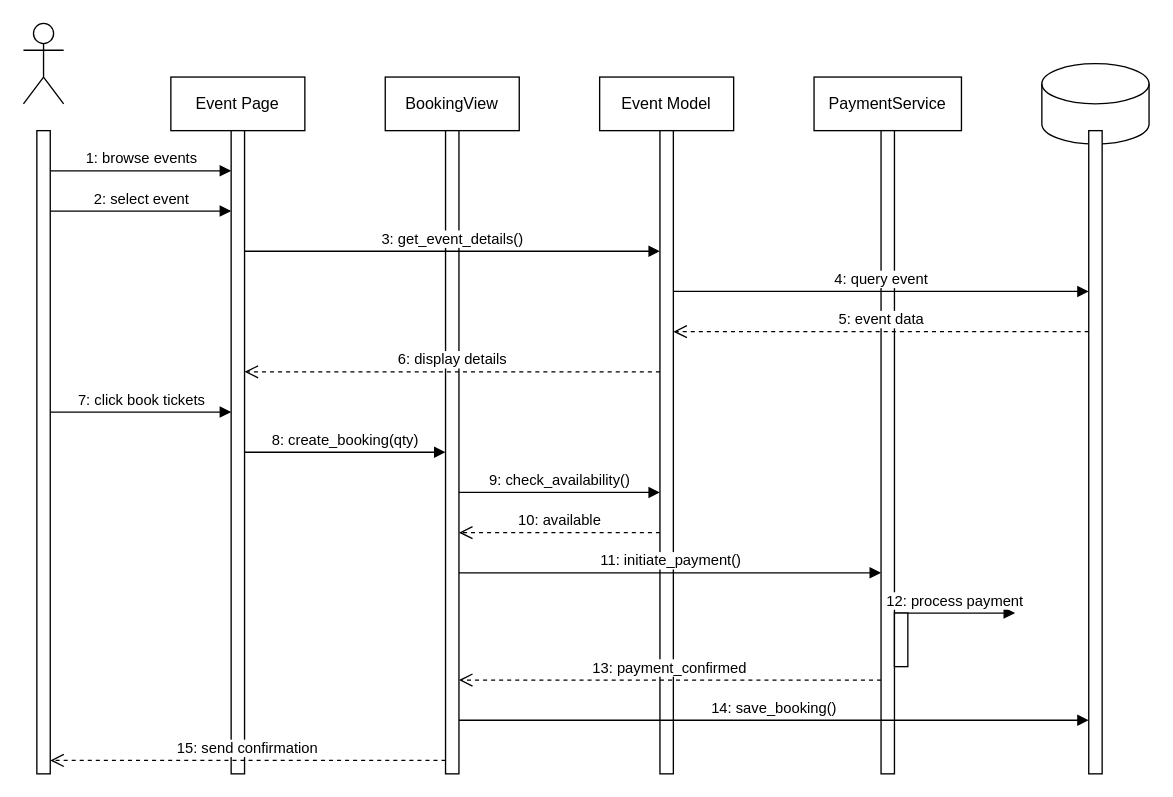
This 1173x797 diagram has some shape labels left out. The centre of each missing label's shape, as x and y in pixels:
"Database" belongs at [1095,103].
"Fan" belongs at [43,63].
